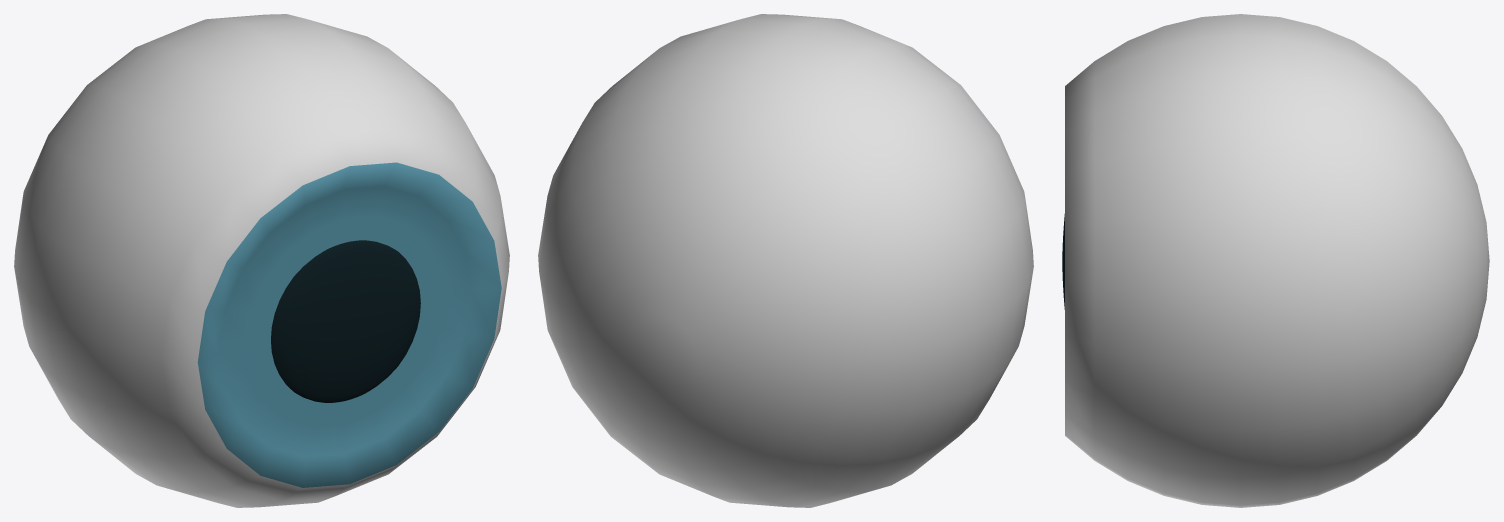
The model's file is Eyeball_Idle.fbx.
3 views of the same model, side by side, from view 1: azimuth 30°, elevation 25°; view 2: azimuth 150°, elevation 25°; view 3: azimuth 270°, elevation 25° (orthographic).
Parts seen in each view (by area): view 1: EyeBallMain, EyeBallPupil; view 2: EyeBallMain; view 3: EyeBallMain.
Boxes of the visible parts, x1,y1,x2,y2 form: EyeBallMain: (14, 14, 509, 507); EyeBallPupil: (271, 240, 420, 402); EyeBallMain: (538, 14, 1033, 507); EyeBallMain: (1065, 14, 1489, 507).
Bounding box in the file's own units: 6.93 × 6.93 × 5.95.
